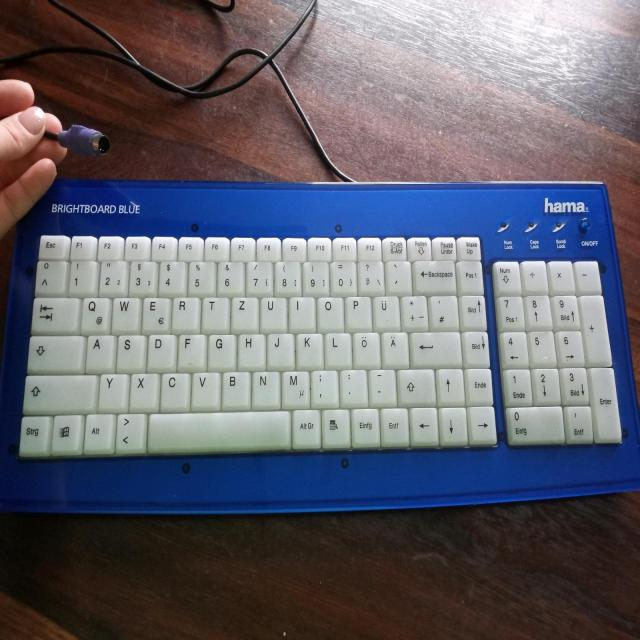0: (329, 259, 356, 293)
1: (68, 258, 97, 293)
2: (98, 258, 126, 293)
3: (127, 257, 156, 293)
4: (158, 258, 185, 293)
5: (186, 259, 214, 293)
6: (216, 258, 243, 293)
7: (245, 258, 271, 293)
8: (273, 258, 299, 294)
9: (301, 259, 328, 293)
a: (85, 332, 114, 370)
accent: (384, 258, 410, 292)
ae: (381, 329, 408, 366)
altgr-right: (291, 406, 319, 446)
b: (221, 369, 249, 407)
c: (160, 370, 189, 408)
caret: (33, 258, 66, 293)
comma: (309, 367, 336, 405)
d: (146, 331, 174, 368)
del: (412, 257, 455, 291)
e: (141, 294, 169, 331)
enter: (408, 328, 460, 365)
f: (176, 331, 204, 368)
g: (207, 331, 234, 368)
h: (237, 331, 264, 367)
hash: (429, 293, 458, 329)
i: (288, 294, 314, 328)
j: (266, 331, 293, 366)
k: (295, 330, 322, 367)
keyboard: (3, 174, 638, 518)
l: (324, 330, 350, 365)
less: (114, 410, 144, 452)
m: (280, 367, 308, 406)
minus: (368, 367, 395, 402)
n: (251, 367, 278, 406)
o: (315, 294, 342, 329)
oe: (352, 329, 379, 366)
p: (344, 293, 370, 328)
plus: (399, 292, 427, 328)
point: (338, 367, 366, 403)
q: (79, 294, 109, 331)
r: (170, 294, 198, 329)
s: (115, 331, 144, 369)
shift-left: (21, 371, 96, 411)
shift-lock: (25, 332, 82, 371)
shift-right: (396, 366, 434, 403)
space: (146, 408, 288, 451)
ss: (356, 258, 383, 292)
strg-left: (17, 413, 49, 455)
t: (201, 294, 228, 329)
tab: (29, 294, 78, 332)
u: (259, 294, 285, 328)
ue: (372, 292, 399, 328)
v: (190, 369, 218, 407)
w: (111, 294, 139, 331)
x: (129, 370, 158, 408)
y: (98, 371, 127, 409)
z: (230, 294, 257, 329)
